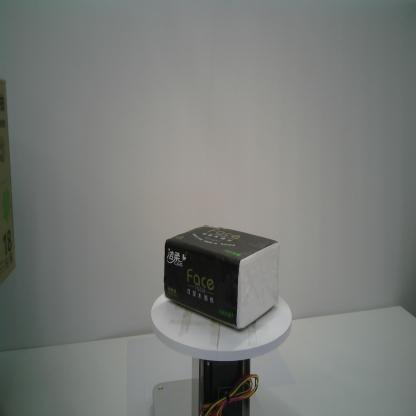Tissue: (163, 223, 280, 332)
